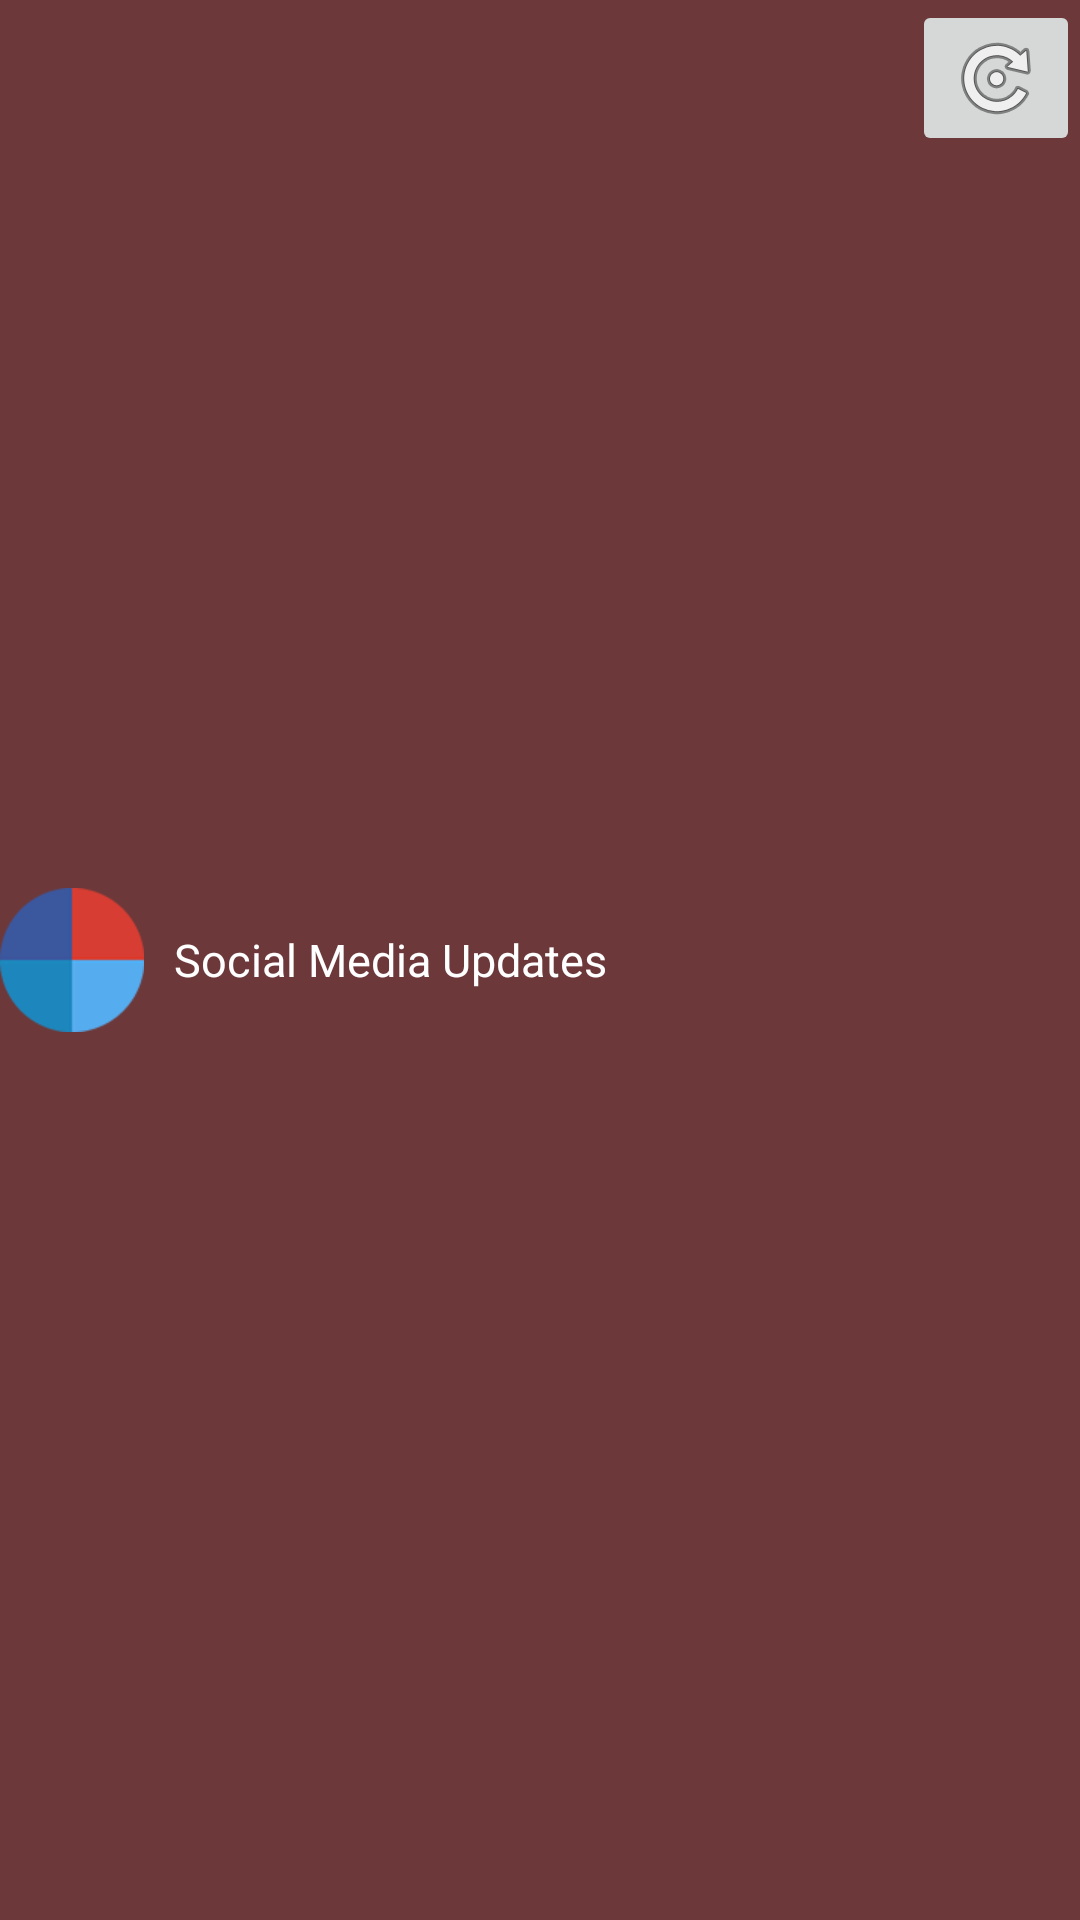

Named icons in this screenshot (1080px×1920px) and their bounding boxes, [x1, y1, x2, y2]:
rotate: [924, 18, 1068, 138]
